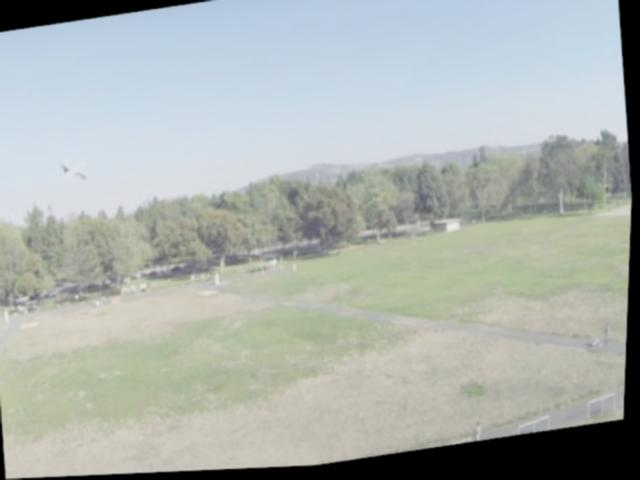iha: (60, 157, 89, 184)
